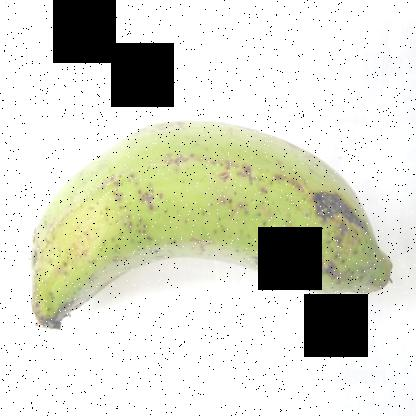rotten: (292, 179, 374, 260)
unripe: (25, 94, 407, 354)
